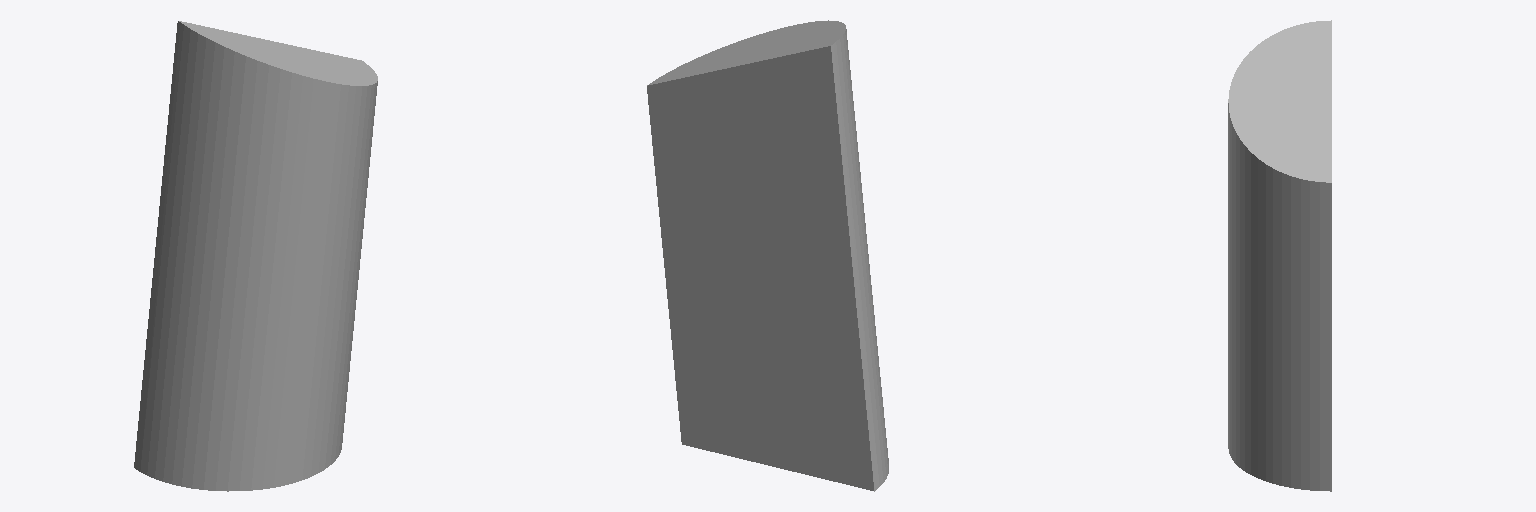
The robot description file, URDF, robot "root":
<robot name="root">
  <link name="link_skewed half cylinder_convex_piece_0">
    <inertial>
      <origin xyz="0 0 0" rpy="0 0 0"/>
      <mass value="2.30E-01"/>
      <inertia ixx="4.18E-04" ixy="6.97E-07" ixz="-2.54E-05" iyy="4.75E-04" iyz="-1.52E-07" izz="9.94E-05"/>
    </inertial>
    <visual>
      <origin xyz="0 0 0" rpy="0 0 0"/>
      <geometry>
        <mesh filename="skewed half cylinder_convex_piece_0.obj" scale="1.0000E+00 1.0000E+00 1.0000E+00"/>
      </geometry>
      <material name="">
        <color rgba="7.50E-01 7.50E-01 7.50E-01 1"/>
      </material>
    </visual>
    <collision>
      <origin xyz="0 0 0" rpy="0 0 0"/>
      <geometry>
        <mesh filename="skewed half cylinder_convex_piece_0.obj" scale="1.0000E+00 1.0000E+00 1.0000E+00"/>
      </geometry>
    </collision>
  </link>
</robot>

--- What the picture shows (computed from the rendered views, not written in the file) ---
3 views of the same robot in one strip: view 1: azimuth 30°, elevation 25°; view 2: azimuth 150°, elevation 25°; view 3: azimuth 270°, elevation 25° (orthographic).
Robot: root — 1 links, 0 joints (none); root link link_skewed half cylinder_convex_piece_0; default pose: all joints at 0.
Links seen in each view (by area): view 1: link_skewed half cylinder_convex_piece_0; view 2: link_skewed half cylinder_convex_piece_0; view 3: link_skewed half cylinder_convex_piece_0.
Boxes of the visible links, x1,y1,x2,y2 form: link_skewed half cylinder_convex_piece_0: [134, 21, 377, 491]; link_skewed half cylinder_convex_piece_0: [647, 20, 888, 491]; link_skewed half cylinder_convex_piece_0: [1228, 20, 1331, 491].
Size in the robot's own frame: 0.0865 by 0.0366 by 0.1579 metres.
1 mesh visuals loaded from 1 distinct referenced files (1 OBJ).
